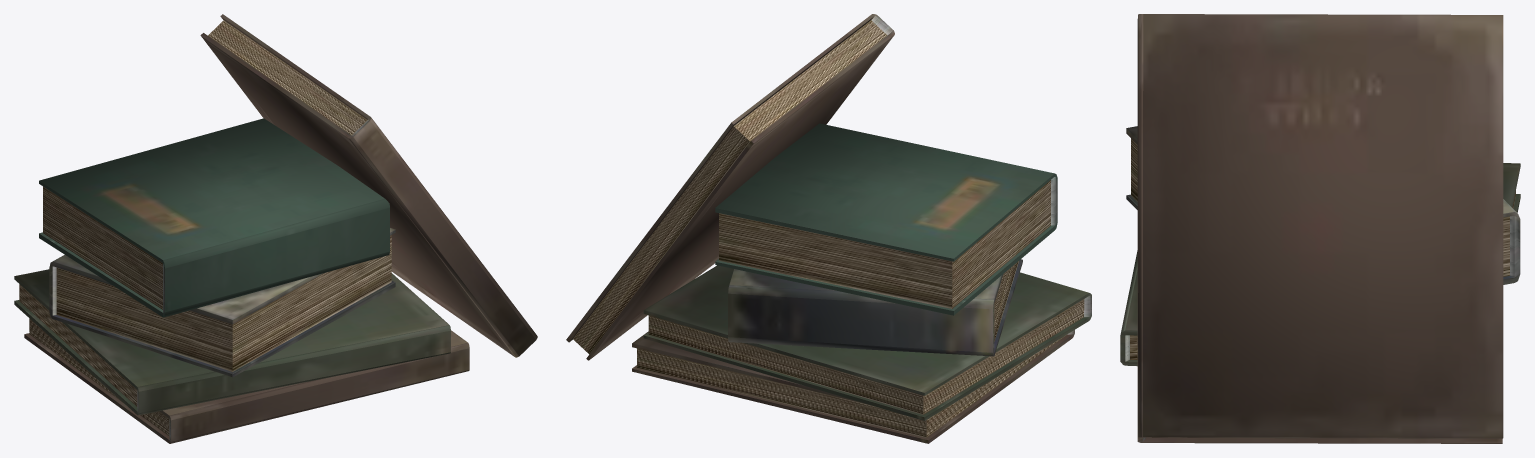
File: obj_old_books.glb
The picture shows the model from 3 angles, left to right: view 1: azimuth 30°, elevation 25°; view 2: azimuth 150°, elevation 25°; view 3: azimuth 270°, elevation 25°; orthographic projection. The views are drawn at different scales.
Parts seen in each view (by area): view 1: Object_10; view 2: Object_10; view 3: Object_10.
Part boxes in pixels (x1,y1,x2,y2): Object_10: (14,14,537,443); Object_10: (566,14,1091,443); Object_10: (1120,14,1520,443).
Bounding box in the file's own units: 0.33 × 0.2227 × 0.2342.
8 materials, 8 textured.
